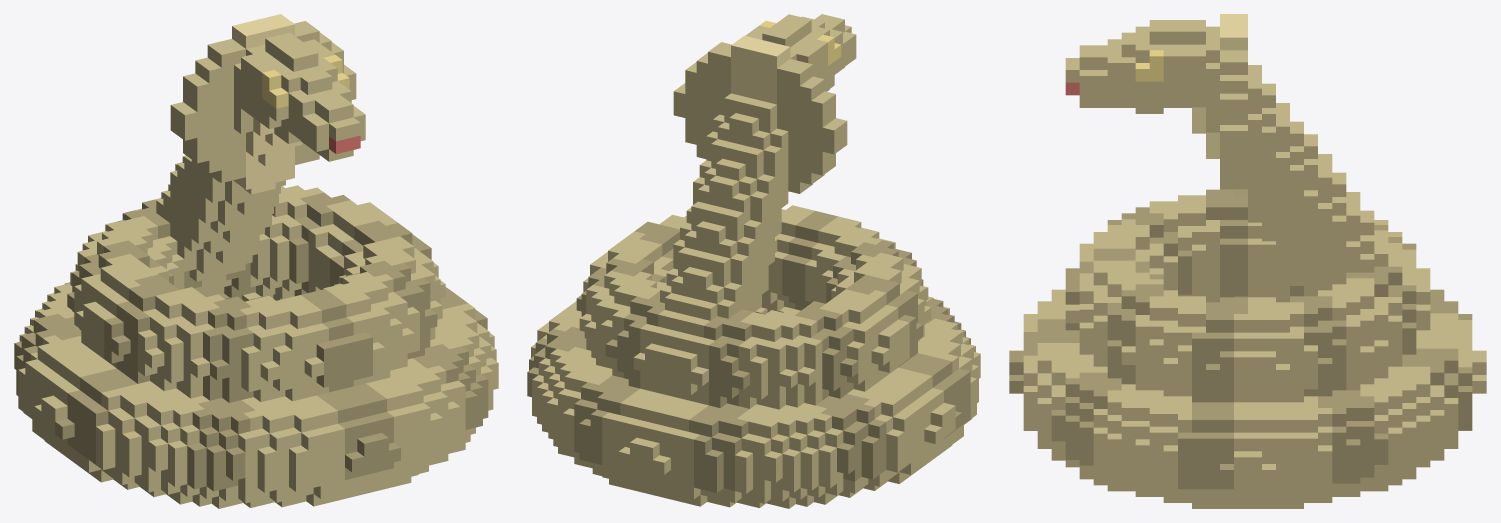
The model's file is cobra.glb.
3 views of the same model, side by side, from view 1: azimuth 30°, elevation 25°; view 2: azimuth 150°, elevation 25°; view 3: azimuth 270°, elevation 25° (orthographic). The views are drawn at different scales.
Parts seen in each view (by area): view 1: item; view 2: item; view 3: item.
Part boxes in pixels (bbox=[...]): item: bbox=[14, 14, 498, 508]; item: bbox=[527, 14, 980, 508]; item: bbox=[1009, 14, 1486, 508].
Size of the model in its own units: 34 by 31 by 34.
